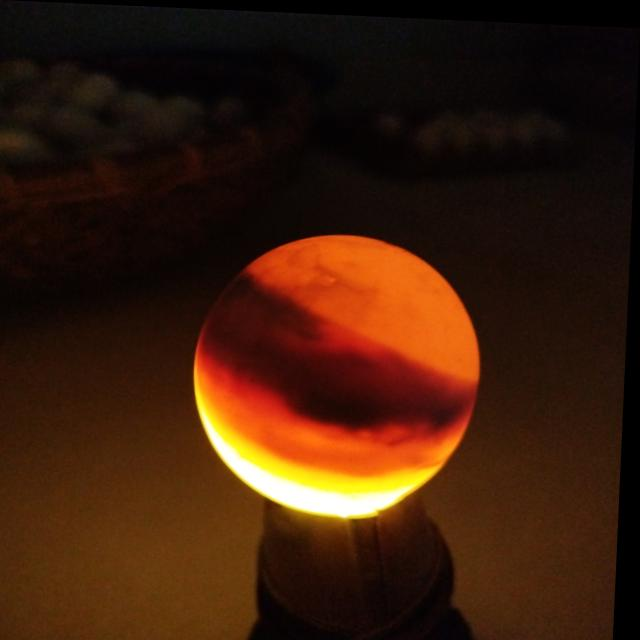Area Infectada: (203, 266, 471, 443)
